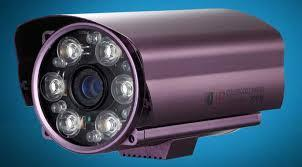tutu: (12, 7, 291, 163)
